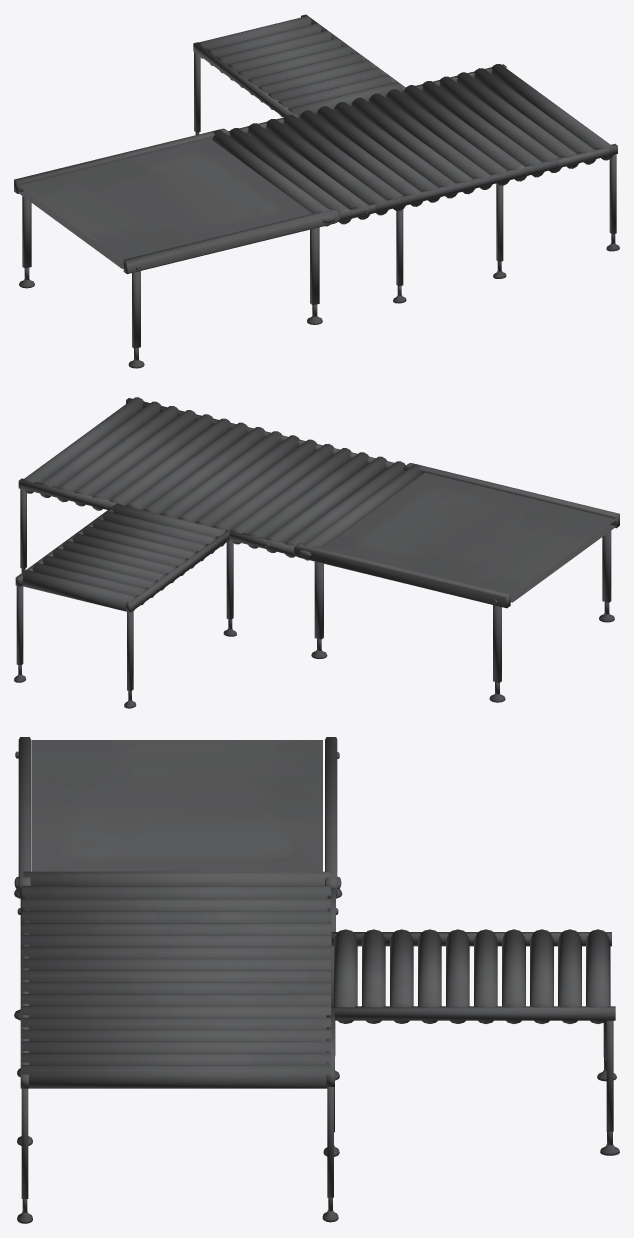
File: machP_2.fbx
The picture shows the model from 3 angles, top to bottom: view 1: azimuth 30°, elevation 25°; view 2: azimuth 150°, elevation 25°; view 3: azimuth 270°, elevation 25°; orthographic projection. The views are drawn at different scales.
Parts seen in each view (by area): view 1: Cube.001; view 2: Cube.001; view 3: Cube.001.
Part boxes in pixels (x1,y1,x2,y2): Cube.001: (14,14,619,368); Cube.001: (14,397,619,708); Cube.001: (14,737,619,1223).
Bounding box in the file's own units: 1079 × 226 × 818.
